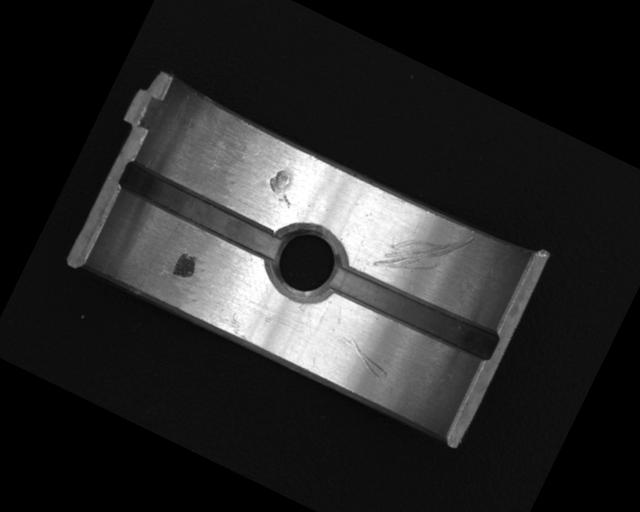blot: (170, 250, 201, 284)
bruise: (262, 165, 303, 208)
gap: (325, 256, 504, 368), (116, 160, 285, 263)
hole: (253, 209, 356, 312)
nick: (371, 203, 475, 301), (333, 332, 395, 382)
